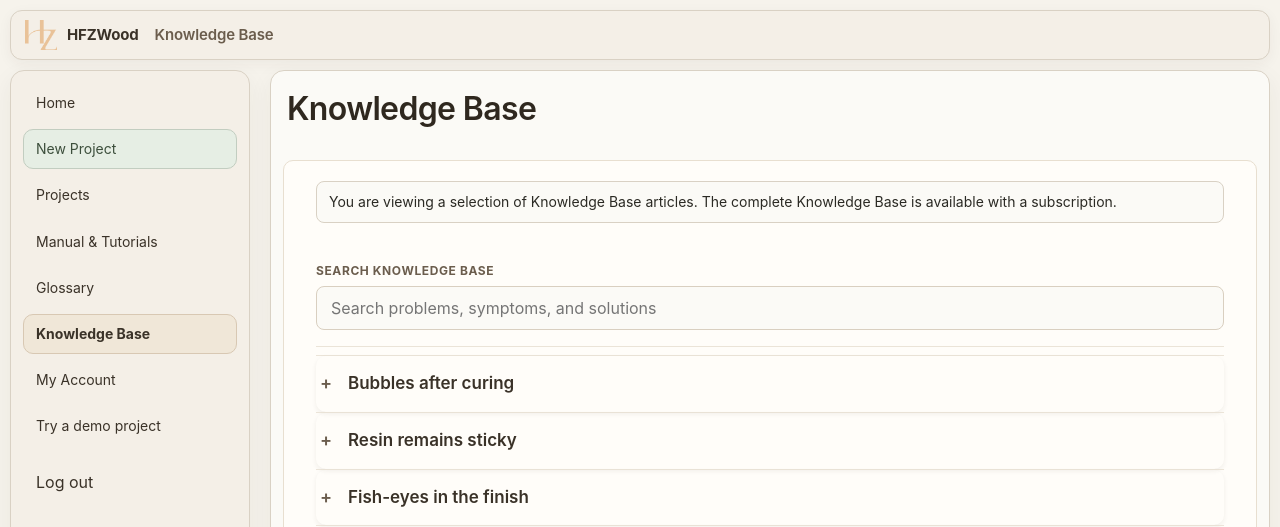
Knowledge Base public UI localization › renders English Knowledge Base structural labels
Expected: the search field with placeholder "Search problems, symptoms, and solutions" is shown, [316,286,1224,330]
Click the button "+ Resin remains sticky": (432, 440) [316,413,1224,469]
(page scrolled)
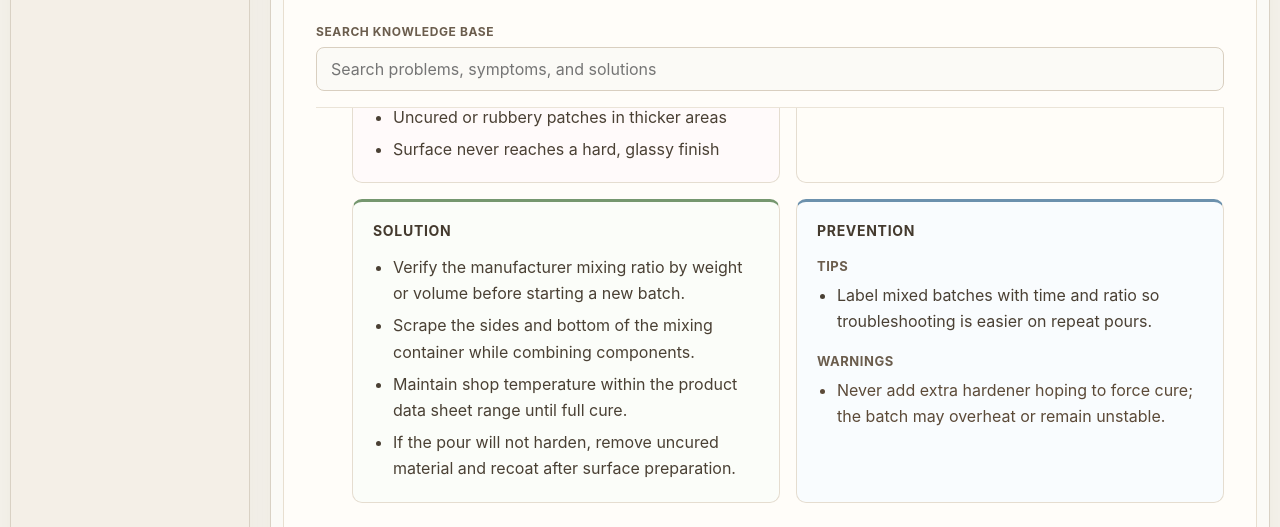
Result: the heading "Symptoms" is shown at [373,22,455,38]
Result: the heading "Solution" is shown at [373,222,452,239]
Result: the heading "Tips" is shown at [817,258,848,274]
